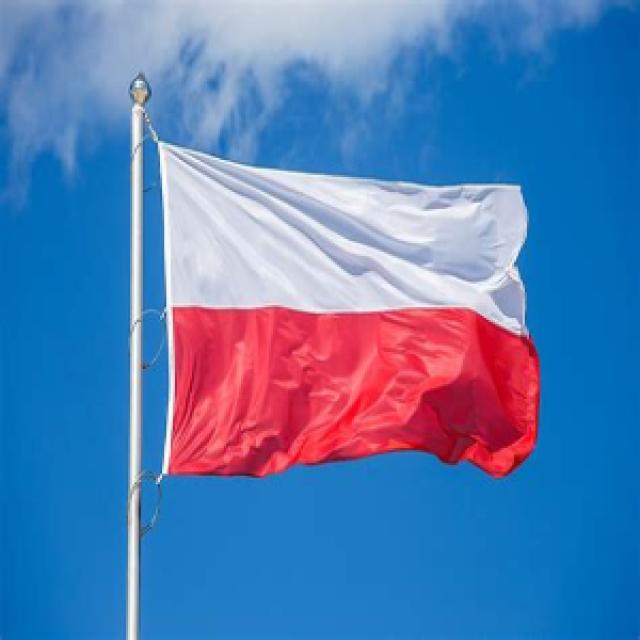poland: (132, 78, 557, 492)
